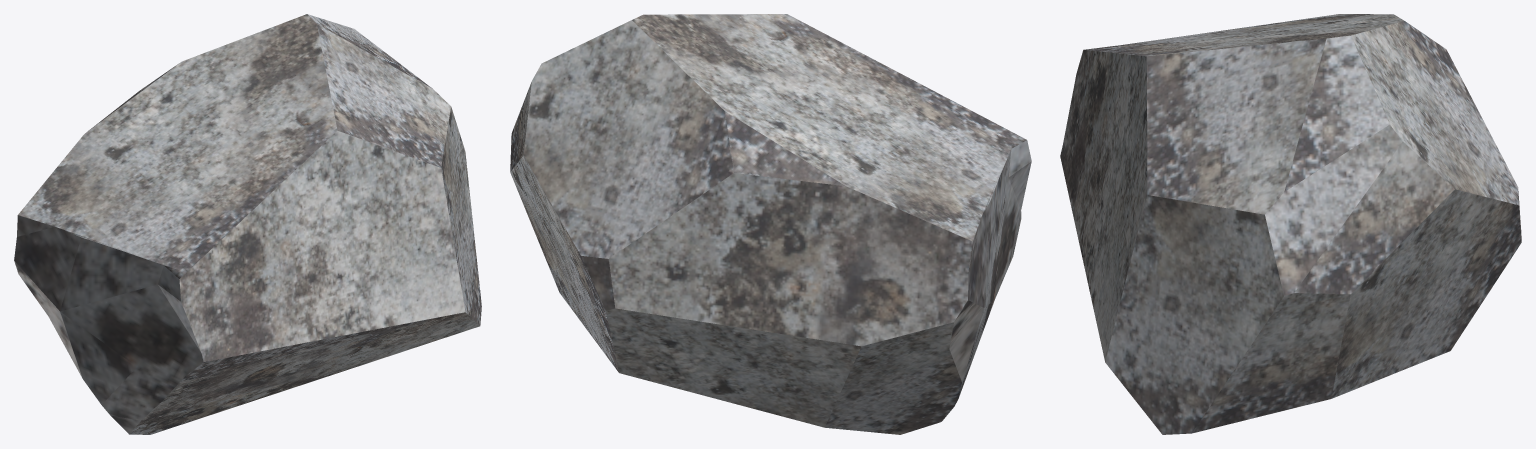
Rendered from Asteroid_Large_001_02_012_03_001.fbx.
3 renders of one model, left to right at view 1: azimuth 30°, elevation 25°; view 2: azimuth 150°, elevation 25°; view 3: azimuth 270°, elevation 25°, orthographic. The views are drawn at different scales.
Visible parts, largest first — view 1: Asteroid_Large_001_02_012_03_001; view 2: Asteroid_Large_001_02_012_03_001; view 3: Asteroid_Large_001_02_012_03_001.
Part boxes in pixels (left/top/right/bottom): Asteroid_Large_001_02_012_03_001: left=14, top=14, right=481, bottom=434; Asteroid_Large_001_02_012_03_001: left=510, top=14, right=1031, bottom=434; Asteroid_Large_001_02_012_03_001: left=1060, top=14, right=1521, bottom=434.
Size of the model in its own units: 13.72 by 10.63 by 10.55.
